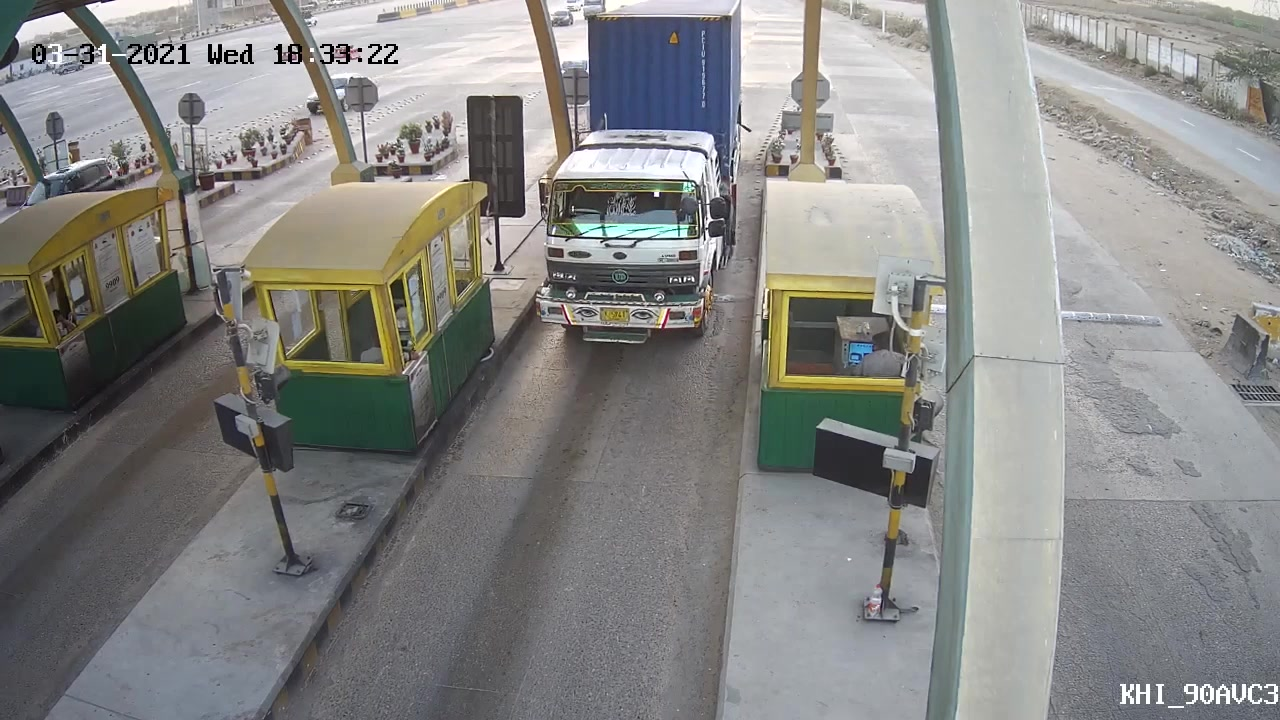F6: (525, 1, 763, 365)
